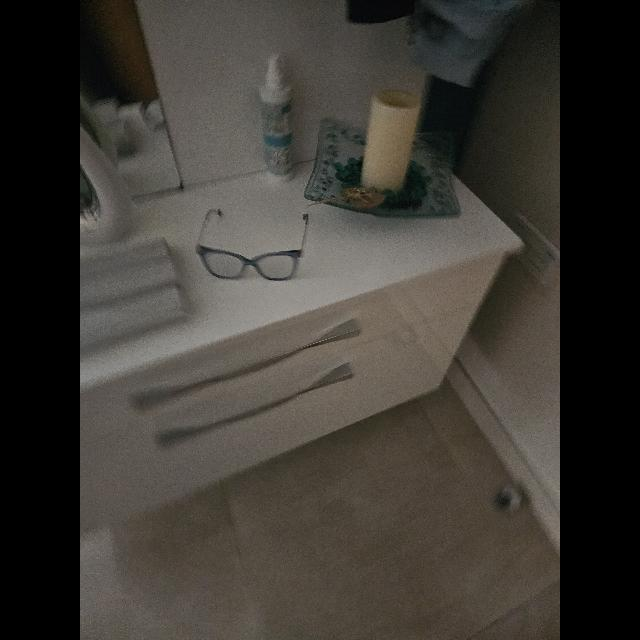glasses: (195, 209, 308, 281)
